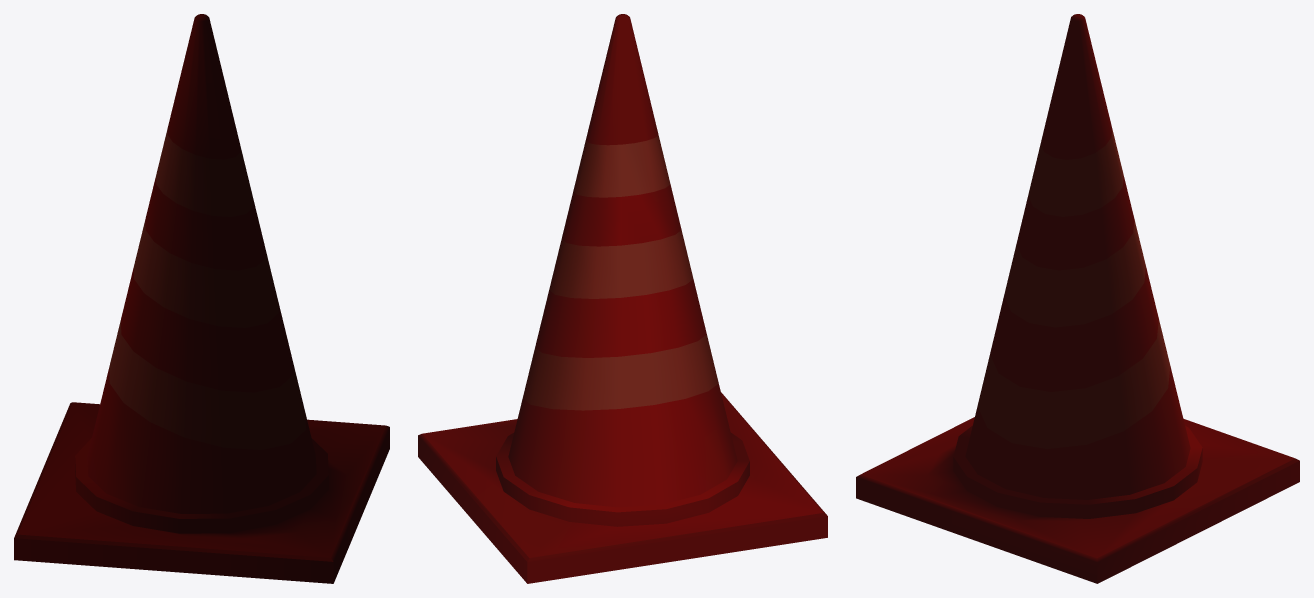
3 views of the same model, side by side, from view 1: azimuth 30°, elevation 25°; view 2: azimuth 150°, elevation 25°; view 3: azimuth 270°, elevation 25° (orthographic). The views are drawn at different scales.
Visible parts, largest first — view 1: Joint_0_Object_0; view 2: Joint_0_Object_0; view 3: Joint_0_Object_0.
Boxes of the visible parts, left/top/right/bottom form: Joint_0_Object_0: left=14, top=14, right=389, bottom=583; Joint_0_Object_0: left=418, top=14, right=827, bottom=583; Joint_0_Object_0: left=856, top=14, right=1299, bottom=583.
Bounding box in the file's own units: 845 × 1000 × 845.
